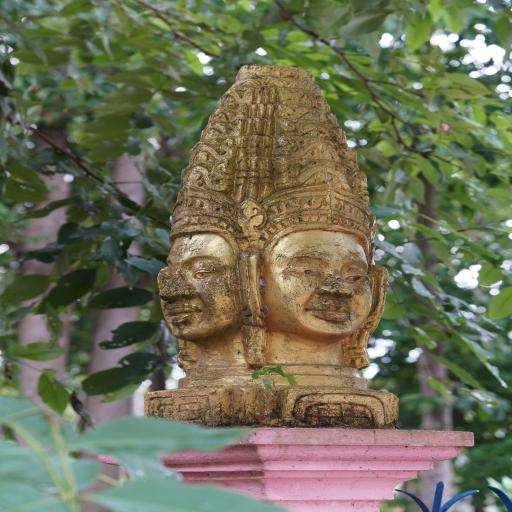than: (133, 46, 448, 434)
